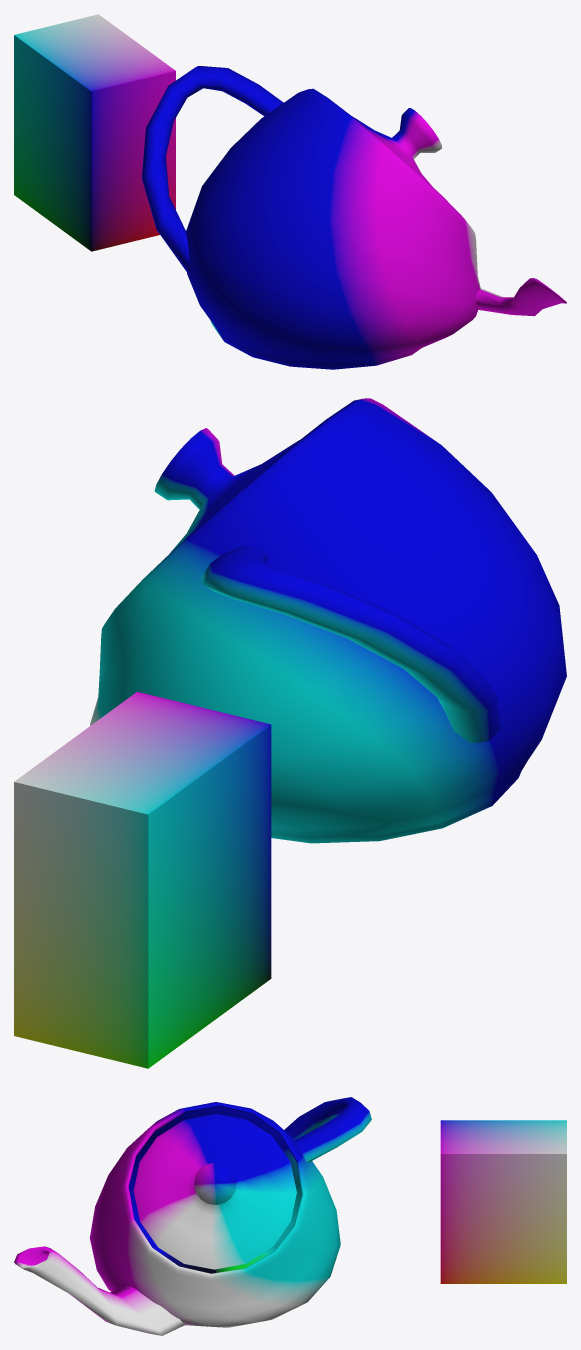
File: testgeo.FBX
3 views of the same model, one above another, from view 1: azimuth 30°, elevation 25°; view 2: azimuth 150°, elevation 25°; view 3: azimuth 270°, elevation 25° (orthographic). The views are drawn at different scales.
Visible parts, largest first — view 1: Teapot001, Box001; view 2: Teapot001, Box001; view 3: Teapot001, Box001.
Part boxes in pixels (x1,y1,x2,y2): Teapot001: (142,66,566,369); Box001: (14,14,175,251); Teapot001: (90,398,566,843); Box001: (14,692,271,1068); Teapot001: (14,1097,371,1335); Box001: (440,1120,566,1283).
Bounding box in the file's own units: 51.97 × 40.01 × 108.
